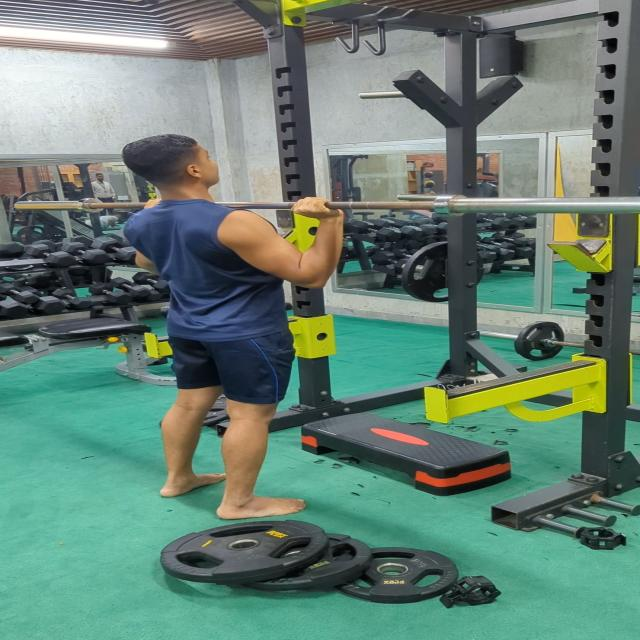Normal_OverheadPress: (98, 126, 364, 526)
